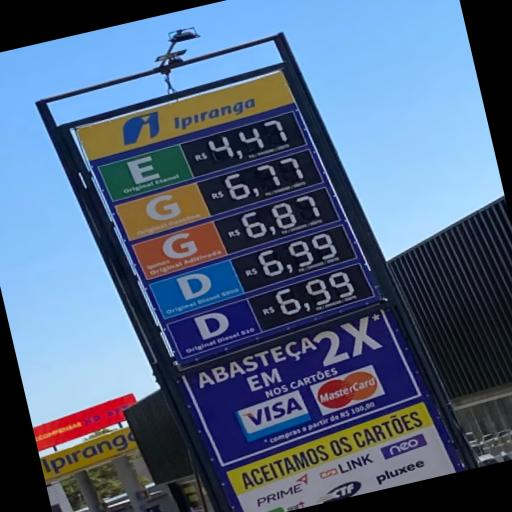ETANOL: (99, 145, 195, 201)
GASOLINA AD: (131, 223, 231, 279)
GASOLINA C: (115, 184, 211, 238)
S10: (170, 299, 264, 357)
S500: (149, 260, 246, 318)
placa: (77, 71, 381, 363)
preco: (270, 266, 362, 320), (218, 152, 310, 206), (204, 115, 293, 168), (239, 193, 331, 244), (253, 231, 341, 282)
